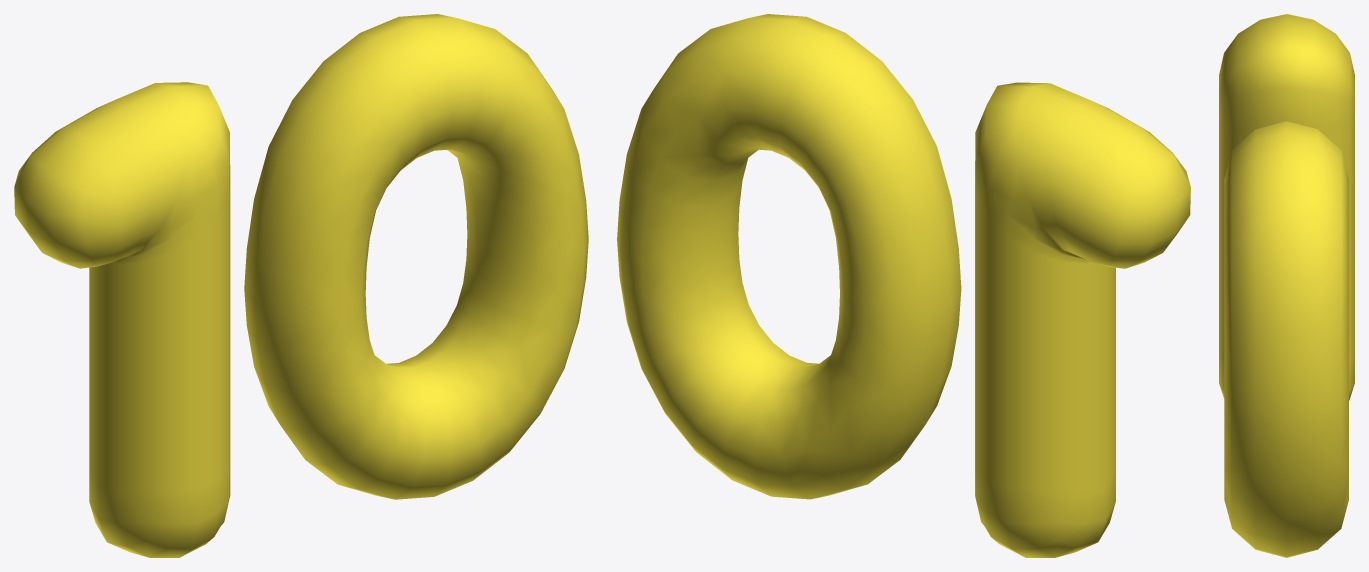
The picture shows the model from 3 angles, left to right: view 1: azimuth 30°, elevation 25°; view 2: azimuth 150°, elevation 25°; view 3: azimuth 270°, elevation 25°; orthographic projection. The views are drawn at different scales.
Parts seen in each view (by area): view 1: 0_wire_115115115_0, 1_wire_115115115_0; view 2: 0_wire_115115115_0, 1_wire_115115115_0; view 3: 0_wire_115115115_0, 1_wire_115115115_0.
Part boxes in pixels (<box>): 0_wire_115115115_0: <box>244,14,588,499</box>; 1_wire_115115115_0: <box>14,82,230,557</box>; 0_wire_115115115_0: <box>617,14,961,499</box>; 1_wire_115115115_0: <box>975,82,1190,557</box>; 0_wire_115115115_0: <box>1224,121,1348,557</box>; 1_wire_115115115_0: <box>1219,14,1354,400</box>.
Size of the model in its own units: 63.12 by 51.66 by 15.33.
